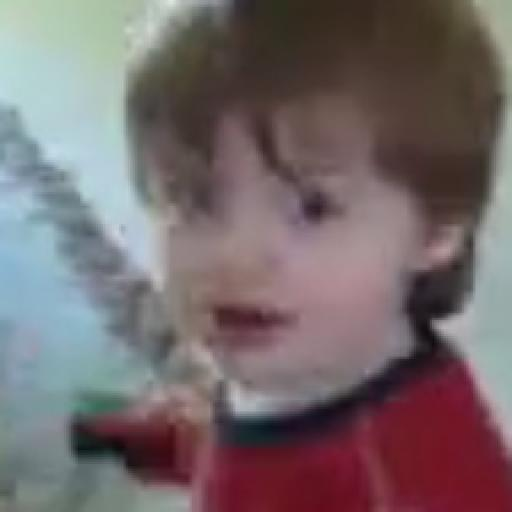Autism: (122, 6, 506, 410)
